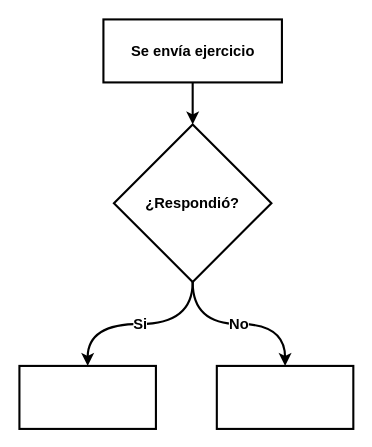
Some shapes in this 372 by 447 pixel diagram are drawn without their labels. The shapes that lost their labels are listed below. From the top down, each one's centre as x and y in pixels, then its label:
At point 87,396: "Aprobado para la siguiente fase".
At point 284,396: "Descartado".
